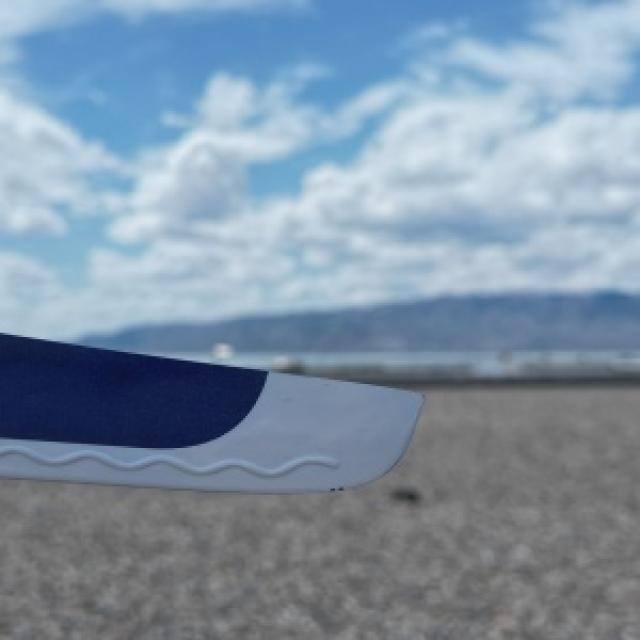healthy: (0, 331, 420, 491)
